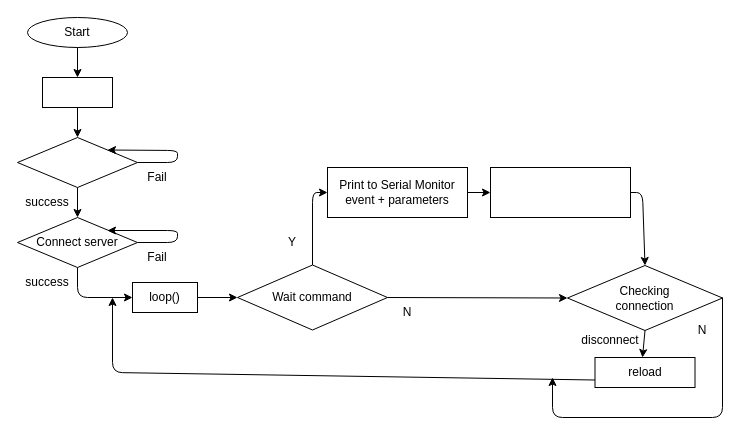
Image size: 748x443. Some labels were removed from this diagram. Each missing label, with the centre of its shape:
"Connect Wifi" belongs at point 77,162.
"main()" belongs at point 77,92.
"Print to Software Serial" belongs at point 560,192.
